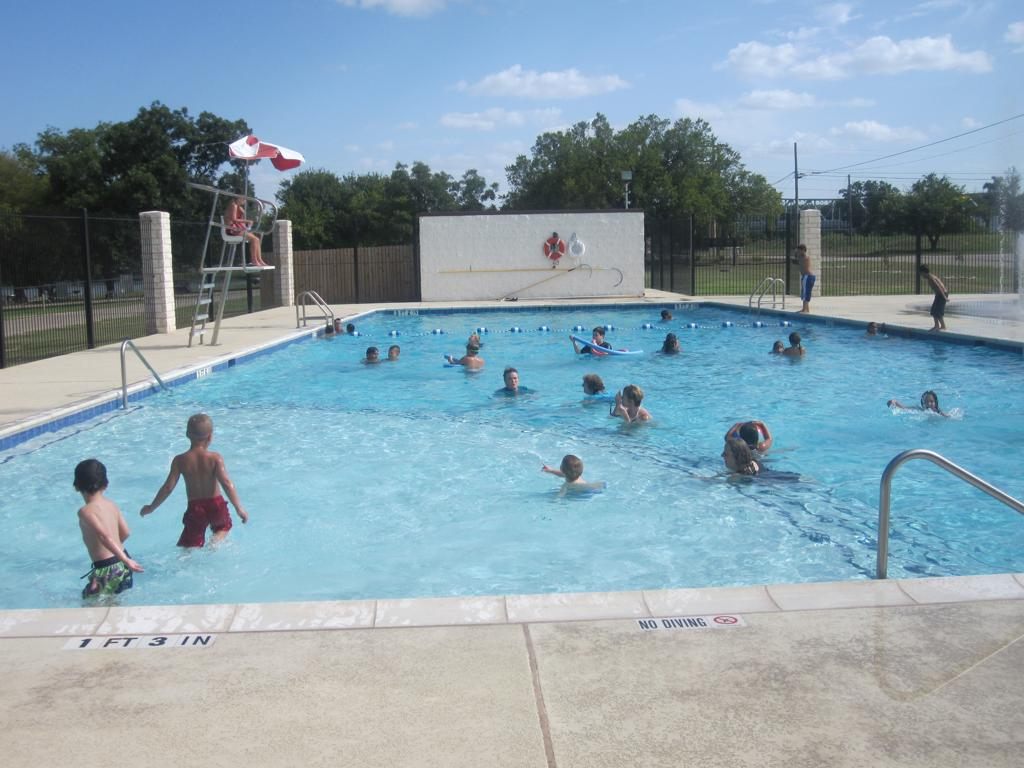face: (720, 442, 735, 467), (922, 393, 935, 410), (505, 371, 517, 387), (581, 380, 590, 393), (621, 392, 628, 405), (388, 348, 396, 358), (592, 331, 600, 341), (370, 350, 378, 359), (335, 320, 340, 328)
